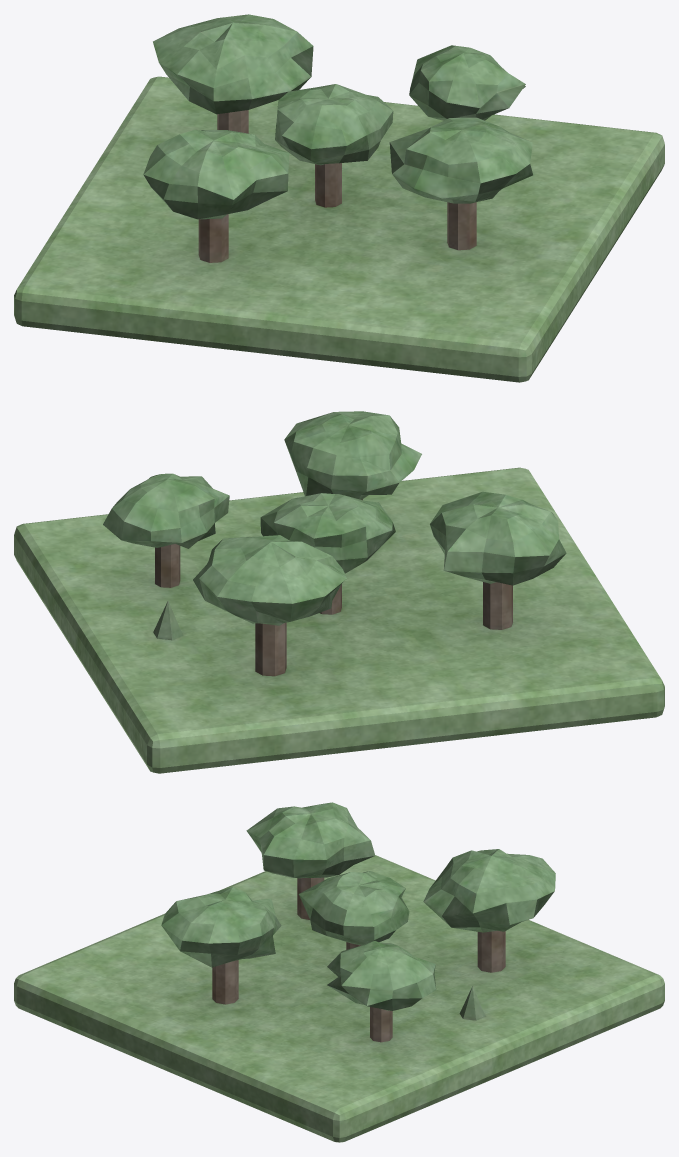
The model's file is aldar_forest.glb.
3 renders of one model, top to bottom at view 1: azimuth 30°, elevation 25°; view 2: azimuth 150°, elevation 25°; view 3: azimuth 270°, elevation 25°, orthographic. The views are drawn at different scales.
Parts seen in each view (by area): view 1: dilek; view 2: dilek; view 3: dilek.
Part boxes in pixels (x1,y1,x2,y2): dilek: [14, 14, 664, 382]; dilek: [14, 411, 664, 773]; dilek: [14, 802, 664, 1142].
Bounding box in the file's own units: 2.42 × 0.5952 × 2.42.
Materials: 1 (1 with a texture image).
